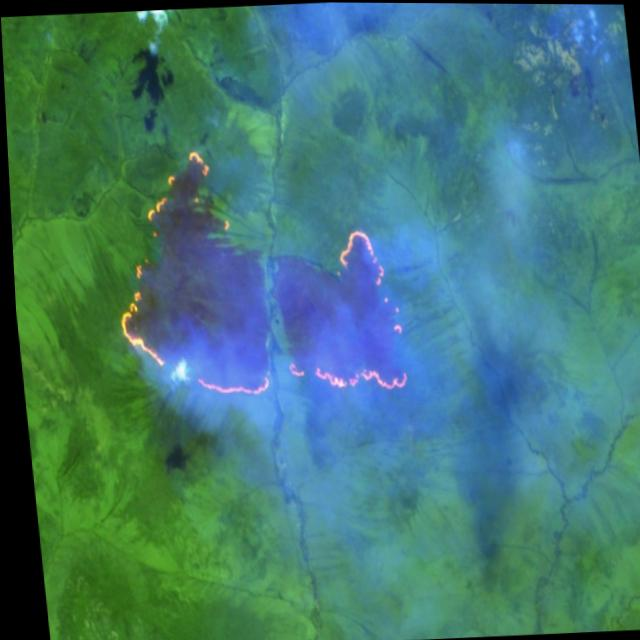fire: (100, 135, 410, 409)
